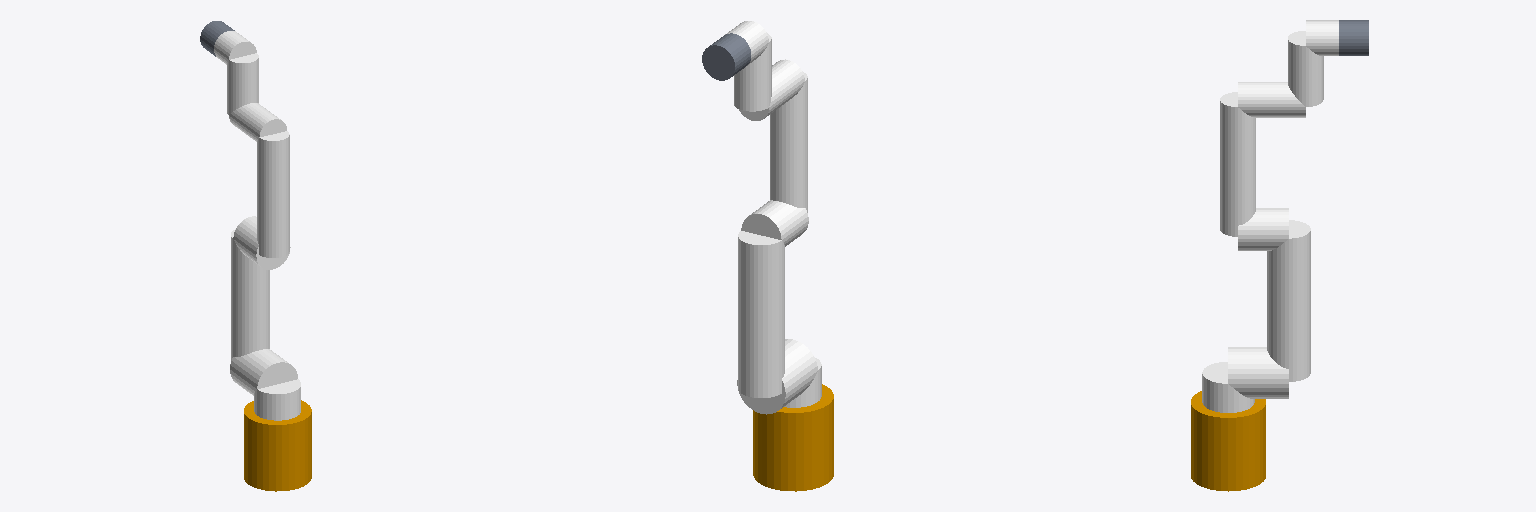
--- Render facts (derived) ---
The picture shows the robot from 3 angles, left to right: view 1: azimuth 30°, elevation 25°; view 2: azimuth 150°, elevation 25°; view 3: azimuth 270°, elevation 25°; orthographic projection.
Robot: chin_arm — 29 links, 28 joints (6 revolute, 22 fixed); root link chin_link0; default pose: every joint at zero.
Links seen in each view (by area): view 1: chin_link0, chin_link7, chin_link4, chin_link1, chin_link2, chin_link11, chin_link8, chin_link12, chin_link6, chin_link13, chin_link10; view 2: chin_link4, chin_link0, chin_link7, chin_link13, chin_link5, chin_link10, chin_link3, chin_link2, chin_link12, chin_link8, chin_link9, chin_link11 (+2 smaller); view 3: chin_link0, chin_link4, chin_link7, chin_link1, chin_link2, chin_link11, chin_link12, chin_link8, chin_link3, chin_link13, chin_link5, chin_link9 (+2 smaller).
Boxes of the visible links, x1,y1,x2,y2 form: chin_link0: (244, 400, 311, 491); chin_link7: (257, 131, 289, 257); chin_link4: (231, 229, 269, 360); chin_link1: (254, 379, 300, 420); chin_link2: (243, 351, 297, 395); chin_link11: (227, 53, 258, 91); chin_link8: (245, 108, 286, 141); chin_link12: (214, 31, 256, 64); chin_link6: (245, 228, 290, 269); chin_link13: (200, 21, 234, 56); chin_link10: (227, 87, 258, 114); chin_link4: (738, 231, 784, 397); chin_link0: (753, 384, 833, 491); chin_link7: (770, 72, 807, 212); chin_link13: (702, 33, 750, 80); chin_link5: (741, 204, 794, 246); chin_link10: (734, 72, 771, 111); chin_link3: (737, 356, 800, 414); chin_link2: (785, 339, 817, 397); chin_link12: (725, 21, 768, 65); chin_link8: (772, 59, 804, 104); chin_link9: (739, 73, 787, 120); chin_link11: (735, 33, 771, 79); chin_link0: (1191, 391, 1265, 491); chin_link4: (1267, 220, 1310, 381); chin_link7: (1220, 92, 1255, 236); chin_link1: (1202, 362, 1254, 412); chin_link2: (1228, 347, 1260, 398); chin_link11: (1288, 31, 1323, 76); chin_link12: (1306, 20, 1338, 55); chin_link8: (1238, 82, 1270, 117); chin_link3: (1261, 347, 1288, 398); chin_link13: (1339, 20, 1368, 55); chin_link5: (1263, 208, 1288, 250); chin_link9: (1271, 82, 1305, 117).
Bounding box of the posed robot: 0.19 × 0.449 × 1.26 m (x, y, z).
Geometry: primitives only (box / cylinder / sphere), no mesh files.

robot.urdf — chin_arm:
<?xml version="1.0" encoding="utf-8" ?>
<!-- =================================================================================== -->
<!-- |    This document was autogenerated by xacro from [local-path]/catkin_workspace/src/chin_arm/chin_description/urdf/chin_arm.urdf.xacro | -->
<!-- |    EDITING THIS FILE BY HAND IS NOT RECOMMENDED                                 | -->
<!-- =================================================================================== -->
<robot name="chin_arm">
    <material name="white">
        <color rgba="1 1 1 1" />
    </material>
    <material name="blue">
        <color rgba="0 0 0.8 1" />
    </material>
    <material name="silver">
        <color rgba="0.51 0.54 0.59 1" />
    </material>
    <!--sub-link defining detailed meshes for collision with environment-->
    <link name="chin_link0">
        <visual>
            <origin rpy="0 0 0" xyz="0 0 0.102" />
            <geometry>
                <cylinder length="0.204" radius="0.095" />
            </geometry>
            <material name="black" />
        </visual>
        <collision>
            <origin rpy="0 0 0" xyz="0 0 0.102" />
            <geometry>
                <cylinder length="0.204" radius="0.095" />
            </geometry>
        </collision>
        <inertial>
            <mass value="0.1" />
            <origin xyz="0 0 0" rpy="0 0 0" />
            <inertia ixx="0.03" iyy="0.03" izz="0.03" ixy="0.0" ixz="0.0" iyz="0.0" />
        </inertial>
    </link>
    <!--sub-link defining coarse geometries of real robot's internal self-collision-->
    <link name="chin_link0_sc" />
    <!--fixed joint between both sub-links-->
    <joint name="chin_link0_sc_joint" type="fixed">
        <origin rpy="0 0 0" />
        <parent link="chin_link0" />
        <child link="chin_link0_sc" />
    </joint>
    <!--sub-link defining detailed meshes for collision with environment-->
    <link name="chin_link1">
        <visual>
            <origin rpy="0 0 0" xyz="0 0 0.0405" />
            <geometry>
                <cylinder length="0.081" radius="0.066" />
            </geometry>
            <material name="white" />
        </visual>
        <collision>
            <origin rpy="0 0 0" xyz="0 0 0.0405" />
            <geometry>
                <cylinder length="0.081" radius="0.066" />
            </geometry>
        </collision>
        <inertial>
            <mass value="0.1" />
            <origin xyz="0 0 0" rpy="0 0 0" />
            <inertia ixx="0.03" iyy="0.03" izz="0.03" ixy="0.0" ixz="0.0" iyz="0.0" />
        </inertial>
    </link>
    <!--sub-link defining coarse geometries of real robot's internal self-collision-->
    <link name="chin_link1_sc">
        <collision>
            <origin rpy="0 0 0" xyz="0 0 0.0405" />
            <geometry>
                <cylinder length="0.081" radius="0.066" />
            </geometry>
        </collision>
        <collision>
            <origin xyz="0 0 0.081" />
            <geometry>
                <sphere radius="0.066" />
            </geometry>
        </collision>
        <collision>
            <origin xyz="0 0 0.0" />
            <geometry>
                <sphere radius="0.066" />
            </geometry>
        </collision>
        <inertial>
            <mass value="0.1" />
            <origin xyz="0 0 0" rpy="0 0 0" />
            <inertia ixx="0.03" iyy="0.03" izz="0.03" ixy="0.0" ixz="0.0" iyz="0.0" />
        </inertial>
    </link>
    <!--fixed joint between both sub-links-->
    <joint name="chin_link1_sc_joint" type="fixed">
        <origin rpy="0 0 0" />
        <parent link="chin_link1" />
        <child link="chin_link1_sc" />
    </joint>
    <joint name="chin_joint1" type="revolute">
        <safety_controller k_position="100.0" k_velocity="40.0" soft_lower_limit="-3.14159265359" soft_upper_limit="3.14159265359" />
        <origin rpy="0 0 0" xyz="0 0 0.204" />
        <parent link="chin_link0" />
        <child link="chin_link1" />
        <axis xyz="0 0 1" />
        <limit effort="0" lower="-3.14159265359" upper="3.14159265359" velocity="0" />
        <dynamics D="1" K="7000" damping="0.003" friction="0.0" mu_coulomb="0" mu_viscous="16" />
    </joint>
    <!--sub-link defining detailed meshes for collision with environment-->
    <link name="chin_link2">
        <visual>
            <origin rpy="0 0 0" xyz="0 0 0.041" />
            <geometry>
                <cylinder length="0.082" radius="0.066" />
            </geometry>
            <material name="white" />
        </visual>
        <collision>
            <origin rpy="0 0 0" xyz="0 0 0.041" />
            <geometry>
                <cylinder length="0.082" radius="0.066" />
            </geometry>
        </collision>
        <inertial>
            <mass value="0.1" />
            <origin xyz="0 0 0" rpy="0 0 0" />
            <inertia ixx="0.03" iyy="0.03" izz="0.03" ixy="0.0" ixz="0.0" iyz="0.0" />
        </inertial>
    </link>
    <!--sub-link defining coarse geometries of real robot's internal self-collision-->
    <link name="chin_link2_sc">
        <collision>
            <origin rpy="0 0 0" xyz="0 0 0.041" />
            <geometry>
                <cylinder length="0.082" radius="0.066" />
            </geometry>
        </collision>
        <collision>
            <origin xyz="0 0 0.082" />
            <geometry>
                <sphere radius="0.066" />
            </geometry>
        </collision>
        <collision>
            <origin xyz="0 0 0.0" />
            <geometry>
                <sphere radius="0.066" />
            </geometry>
        </collision>
        <inertial>
            <mass value="0.1" />
            <origin xyz="0 0 0" rpy="0 0 0" />
            <inertia ixx="0.03" iyy="0.03" izz="0.03" ixy="0.0" ixz="0.0" iyz="0.0" />
        </inertial>
    </link>
    <!--fixed joint between both sub-links-->
    <joint name="chin_link2_sc_joint" type="fixed">
        <origin rpy="0 0 0" />
        <parent link="chin_link2" />
        <child link="chin_link2_sc" />
    </joint>
    <joint name="chin_joint2" type="fixed">
        <origin rpy="-1.57079632679 0 0" xyz="0 0 0.081" />
        <parent link="chin_link1" />
        <child link="chin_link2" />
        <axis xyz="0 0 1" />
        <dynamics D="1" K="7000" damping="0.003" friction="0.0" mu_coulomb="0" mu_viscous="16" />
    </joint>
    <!--sub-link defining detailed meshes for collision with environment-->
    <link name="chin_link3">
        <visual>
            <origin rpy="0 0 0" xyz="0 0 0.035" />
            <geometry>
                <cylinder length="0.07" radius="0.066" />
            </geometry>
            <material name="white" />
        </visual>
        <collision>
            <origin rpy="0 0 0" xyz="0 0 0.035" />
            <geometry>
                <cylinder length="0.07" radius="0.066" />
            </geometry>
        </collision>
        <inertial>
            <mass value="0.1" />
            <origin xyz="0 0 0" rpy="0 0 0" />
            <inertia ixx="0.03" iyy="0.03" izz="0.03" ixy="0.0" ixz="0.0" iyz="0.0" />
        </inertial>
    </link>
    <!--sub-link defining coarse geometries of real robot's internal self-collision-->
    <link name="chin_link3_sc">
        <collision>
            <origin rpy="0 0 0" xyz="0 0 0.035" />
            <geometry>
                <cylinder length="0.07" radius="0.066" />
            </geometry>
        </collision>
        <collision>
            <origin xyz="0 0 0.07" />
            <geometry>
                <sphere radius="0.066" />
            </geometry>
        </collision>
        <collision>
            <origin xyz="0 0 0.0" />
            <geometry>
                <sphere radius="0.066" />
            </geometry>
        </collision>
        <inertial>
            <mass value="0.1" />
            <origin xyz="0 0 0" rpy="0 0 0" />
            <inertia ixx="0.03" iyy="0.03" izz="0.03" ixy="0.0" ixz="0.0" iyz="0.0" />
        </inertial>
    </link>
    <!--fixed joint between both sub-links-->
    <joint name="chin_link3_sc_joint" type="fixed">
        <origin rpy="0 0 0" />
        <parent link="chin_link3" />
        <child link="chin_link3_sc" />
    </joint>
    <joint name="chin_joint3" type="revolute">
        <safety_controller k_position="100.0" k_velocity="40.0" soft_lower_limit="-3.14159265359" soft_upper_limit="3.14159265359" />
        <origin rpy="0 0 0" xyz="0 0 0.082" />
        <parent link="chin_link2" />
        <child link="chin_link3" />
        <axis xyz="0 0 1" />
        <limit effort="0" lower="-3.14159265359" upper="3.14159265359" velocity="0" />
        <dynamics D="1" K="7000" damping="0.003" friction="0.0" mu_coulomb="0" mu_viscous="16" />
    </joint>
    <!--sub-link defining detailed meshes for collision with environment-->
    <link name="chin_link4">
        <visual>
            <origin rpy="0 0 0" xyz="0 0 0.199" />
            <geometry>
                <cylinder length="0.398" radius="0.055" />
            </geometry>
            <material name="white" />
        </visual>
        <collision>
            <origin rpy="0 0 0" xyz="0 0 0.199" />
            <geometry>
                <cylinder length="0.398" radius="0.055" />
            </geometry>
        </collision>
        <inertial>
            <mass value="0.1" />
            <origin xyz="0 0 0" rpy="0 0 0" />
            <inertia ixx="0.03" iyy="0.03" izz="0.03" ixy="0.0" ixz="0.0" iyz="0.0" />
        </inertial>
    </link>
    <!--sub-link defining coarse geometries of real robot's internal self-collision-->
    <link name="chin_link4_sc">
        <collision>
            <origin rpy="0 0 0" xyz="0 0 0.199" />
            <geometry>
                <cylinder length="0.398" radius="0.055" />
            </geometry>
        </collision>
        <collision>
            <origin xyz="0 0 0.398" />
            <geometry>
                <sphere radius="0.055" />
            </geometry>
        </collision>
        <collision>
            <origin xyz="0 0 0.0" />
            <geometry>
                <sphere radius="0.055" />
            </geometry>
        </collision>
        <inertial>
            <mass value="0.1" />
            <origin xyz="0 0 0" rpy="0 0 0" />
            <inertia ixx="0.03" iyy="0.03" izz="0.03" ixy="0.0" ixz="0.0" iyz="0.0" />
        </inertial>
    </link>
    <!--fixed joint between both sub-links-->
    <joint name="chin_link4_sc_joint" type="fixed">
        <origin rpy="0 0 0" />
        <parent link="chin_link4" />
        <child link="chin_link4_sc" />
    </joint>
    <joint name="chin_joint4" type="fixed">
        <origin rpy="1.57079632679 0 0" xyz="0 0 0.07" />
        <parent link="chin_link3" />
        <child link="chin_link4" />
        <axis xyz="0 0 1" />
        <dynamics D="1" K="7000" damping="0.003" friction="0.0" mu_coulomb="0" mu_viscous="16" />
    </joint>
    <!--sub-link defining detailed meshes for collision with environment-->
    <link name="chin_link5">
        <visual>
            <origin rpy="0 0 0" xyz="0 0 0.0325" />
            <geometry>
                <cylinder length="0.065" radius="0.055" />
            </geometry>
            <material name="white" />
        </visual>
        <collision>
            <origin rpy="0 0 0" xyz="0 0 0.0325" />
            <geometry>
                <cylinder length="0.065" radius="0.055" />
            </geometry>
        </collision>
        <inertial>
            <mass value="0.1" />
            <origin xyz="0 0 0" rpy="0 0 0" />
            <inertia ixx="0.03" iyy="0.03" izz="0.03" ixy="0.0" ixz="0.0" iyz="0.0" />
        </inertial>
    </link>
    <!--sub-link defining coarse geometries of real robot's internal self-collision-->
    <link name="chin_link5_sc">
        <collision>
            <origin rpy="0 0 0" xyz="0 0 0.0325" />
            <geometry>
                <cylinder length="0.065" radius="0.055" />
            </geometry>
        </collision>
        <collision>
            <origin xyz="0 0 0.065" />
            <geometry>
                <sphere radius="0.055" />
            </geometry>
        </collision>
        <collision>
            <origin xyz="0 0 0.0" />
            <geometry>
                <sphere radius="0.055" />
            </geometry>
        </collision>
        <inertial>
            <mass value="0.1" />
            <origin xyz="0 0 0" rpy="0 0 0" />
            <inertia ixx="0.03" iyy="0.03" izz="0.03" ixy="0.0" ixz="0.0" iyz="0.0" />
        </inertial>
    </link>
    <!--fixed joint between both sub-links-->
    <joint name="chin_link5_sc_joint" type="fixed">
        <origin rpy="0 0 0" />
        <parent link="chin_link5" />
        <child link="chin_link5_sc" />
    </joint>
    <joint name="chin_joint5" type="fixed">
        <origin rpy="1.57079632679 0 0" xyz="0 0 0.398" />
        <parent link="chin_link4" />
        <child link="chin_link5" />
        <axis xyz="0 0 1" />
        <dynamics D="1" K="7000" damping="0.003" friction="0.0" mu_coulomb="0" mu_viscous="16" />
    </joint>
    <!--sub-link defining detailed meshes for collision with environment-->
    <link name="chin_link6">
        <visual>
            <origin rpy="0 0 0" xyz="0 0 0.0315" />
            <geometry>
                <cylinder length="0.063" radius="0.055" />
            </geometry>
            <material name="white" />
        </visual>
        <collision>
            <origin rpy="0 0 0" xyz="0 0 0.0315" />
            <geometry>
                <cylinder length="0.063" radius="0.055" />
            </geometry>
        </collision>
        <inertial>
            <mass value="0.1" />
            <origin xyz="0 0 0" rpy="0 0 0" />
            <inertia ixx="0.03" iyy="0.03" izz="0.03" ixy="0.0" ixz="0.0" iyz="0.0" />
        </inertial>
    </link>
    <!--sub-link defining coarse geometries of real robot's internal self-collision-->
    <link name="chin_link6_sc">
        <collision>
            <origin rpy="0 0 0" xyz="0 0 0.0315" />
            <geometry>
                <cylinder length="0.063" radius="0.055" />
            </geometry>
        </collision>
        <collision>
            <origin xyz="0 0 0.063" />
            <geometry>
                <sphere radius="0.055" />
            </geometry>
        </collision>
        <collision>
            <origin xyz="0 0 0.0" />
            <geometry>
                <sphere radius="0.055" />
            </geometry>
        </collision>
        <inertial>
            <mass value="0.1" />
            <origin xyz="0 0 0" rpy="0 0 0" />
            <inertia ixx="0.03" iyy="0.03" izz="0.03" ixy="0.0" ixz="0.0" iyz="0.0" />
        </inertial>
    </link>
    <!--fixed joint between both sub-links-->
    <joint name="chin_link6_sc_joint" type="fixed">
        <origin rpy="0 0 0" />
        <parent link="chin_link6" />
        <child link="chin_link6_sc" />
    </joint>
    <joint name="chin_joint6" type="revolute">
        <safety_controller k_position="100.0" k_velocity="40.0" soft_lower_limit="-2.7925" soft_upper_limit="2.7925" />
        <origin rpy="0 0 0" xyz="0 0 0.065" />
        <parent link="chin_link5" />
        <child link="chin_link6" />
        <axis xyz="0 0 1" />
        <limit effort="0" lower="-2.7925" upper="2.7925" velocity="0" />
        <dynamics D="1" K="7000" damping="0.003" friction="0.0" mu_coulomb="0" mu_viscous="16" />
    </joint>
    <!--sub-link defining detailed meshes for collision with environment-->
    <link name="chin_link7">
        <visual>
            <origin rpy="0 0 0" xyz="0 0 0.18" />
            <geometry>
                <cylinder length="0.36" radius="0.045" />
            </geometry>
            <material name="white" />
        </visual>
        <collision>
            <origin rpy="0 0 0" xyz="0 0 0.18" />
            <geometry>
                <cylinder length="0.36" radius="0.045" />
            </geometry>
        </collision>
        <inertial>
            <mass value="0.1" />
            <origin xyz="0 0 0" rpy="0 0 0" />
            <inertia ixx="0.03" iyy="0.03" izz="0.03" ixy="0.0" ixz="0.0" iyz="0.0" />
        </inertial>
    </link>
    <!--sub-link defining coarse geometries of real robot's internal self-collision-->
    <link name="chin_link7_sc">
        <collision>
            <origin rpy="0 0 0" xyz="0 0 0.18" />
            <geometry>
                <cylinder length="0.36" radius="0.045" />
            </geometry>
        </collision>
        <collision>
            <origin xyz="0 0 0.36" />
            <geometry>
                <sphere radius="0.045" />
            </geometry>
        </collision>
        <collision>
            <origin xyz="0 0 0.0" />
            <geometry>
                <sphere radius="0.045" />
            </geometry>
        </collision>
        <inertial>
            <mass value="0.1" />
            <origin xyz="0 0 0" rpy="0 0 0" />
            <inertia ixx="0.03" iyy="0.03" izz="0.03" ixy="0.0" ixz="0.0" iyz="0.0" />
        </inertial>
    </link>
    <!--fixed joint between both sub-links-->
    <joint name="chin_link7_sc_joint" type="fixed">
        <origin rpy="0 0 0" />
        <parent link="chin_link7" />
        <child link="chin_link7_sc" />
    </joint>
    <joint name="chin_joint7" type="fixed">
        <origin rpy="-1.57079632679 0 0" xyz="0 0 0.063" />
        <parent link="chin_link6" />
        <child link="chin_link7" />
        <axis xyz="0 0 1" />
        <dynamics D="1" K="7000" damping="0.003" friction="0.0" mu_coulomb="0" mu_viscous="16" />
    </joint>
    <!--sub-link defining detailed meshes for collision with environment-->
    <link name="chin_link8">
        <visual>
            <origin rpy="0 0 0" xyz="0 0 0.0415" />
            <geometry>
                <cylinder length="0.083" radius="0.045" />
            </geometry>
            <material name="white" />
        </visual>
        <collision>
            <origin rpy="0 0 0" xyz="0 0 0.0415" />
            <geometry>
                <cylinder length="0.083" radius="0.045" />
            </geometry>
        </collision>
        <inertial>
            <mass value="0.1" />
            <origin xyz="0 0 0" rpy="0 0 0" />
            <inertia ixx="0.03" iyy="0.03" izz="0.03" ixy="0.0" ixz="0.0" iyz="0.0" />
        </inertial>
    </link>
    <!--sub-link defining coarse geometries of real robot's internal self-collision-->
    <link name="chin_link8_sc">
        <collision>
            <origin rpy="0 0 0" xyz="0 0 0.0415" />
            <geometry>
                <cylinder length="0.083" radius="0.045" />
            </geometry>
        </collision>
        <collision>
            <origin xyz="0 0 0.083" />
            <geometry>
                <sphere radius="0.045" />
            </geometry>
        </collision>
        <collision>
            <origin xyz="0 0 0.0" />
            <geometry>
                <sphere radius="0.045" />
            </geometry>
        </collision>
        <inertial>
            <mass value="0.1" />
            <origin xyz="0 0 0" rpy="0 0 0" />
            <inertia ixx="0.03" iyy="0.03" izz="0.03" ixy="0.0" ixz="0.0" iyz="0.0" />
        </inertial>
    </link>
    <!--fixed joint between both sub-links-->
    <joint name="chin_link8_sc_joint" type="fixed">
        <origin rpy="0 0 0" />
        <parent link="chin_link8" />
        <child link="chin_link8_sc" />
    </joint>
    <joint name="chin_joint8" type="fixed">
        <origin rpy="-1.57079632679 0 0" xyz="0 0 0.36" />
        <parent link="chin_link7" />
        <child link="chin_link8" />
        <axis xyz="0 0 1" />
        <dynamics D="1" K="7000" damping="0.003" friction="0.0" mu_coulomb="0" mu_viscous="16" />
    </joint>
    <!--sub-link defining detailed meshes for collision with environment-->
    <link name="chin_link9">
        <visual>
            <origin rpy="0 0 0" xyz="0 0 0.0435" />
            <geometry>
                <cylinder length="0.087" radius="0.045" />
            </geometry>
            <material name="white" />
        </visual>
        <collision>
            <origin rpy="0 0 0" xyz="0 0 0.0435" />
            <geometry>
                <cylinder length="0.087" radius="0.045" />
            </geometry>
        </collision>
        <inertial>
            <mass value="0.1" />
            <origin xyz="0 0 0" rpy="0 0 0" />
            <inertia ixx="0.03" iyy="0.03" izz="0.03" ixy="0.0" ixz="0.0" iyz="0.0" />
        </inertial>
    </link>
    <!--sub-link defining coarse geometries of real robot's internal self-collision-->
    <link name="chin_link9_sc">
        <collision>
            <origin rpy="0 0 0" xyz="0 0 0.0435" />
            <geometry>
                <cylinder length="0.087" radius="0.045" />
            </geometry>
        </collision>
        <collision>
            <origin xyz="0 0 0.087" />
            <geometry>
                <sphere radius="0.045" />
            </geometry>
        </collision>
        <collision>
            <origin xyz="0 0 0.0" />
            <geometry>
                <sphere radius="0.045" />
            </geometry>
        </collision>
        <inertial>
            <mass value="0.1" />
            <origin xyz="0 0 0" rpy="0 0 0" />
            <inertia ixx="0.03" iyy="0.03" izz="0.03" ixy="0.0" ixz="0.0" iyz="0.0" />
        </inertial>
    </link>
    <!--fixed joint between both sub-links-->
    <joint name="chin_link9_sc_joint" type="fixed">
        <origin rpy="0 0 0" />
        <parent link="chin_link9" />
        <child link="chin_link9_sc" />
    </joint>
    <joint name="chin_joint9" type="revolute">
        <safety_controller k_position="100.0" k_velocity="40.0" soft_lower_limit="-3.14159265359" soft_upper_limit="3.14159265359" />
        <origin rpy="0 0 0" xyz="0 0 0.083" />
        <parent link="chin_link8" />
        <child link="chin_link9" />
        <axis xyz="0 0 1" />
        <limit effort="0" lower="-3.14159265359" upper="3.14159265359" velocity="0" />
        <dynamics D="1" K="7000" damping="0.003" friction="0.0" mu_coulomb="0" mu_viscous="16" />
    </joint>
    <!--sub-link defining detailed meshes for collision with environment-->
    <link name="chin_link10">
        <visual>
            <origin rpy="0 0 0" xyz="0 0 0.0415" />
            <geometry>
                <cylinder length="0.083" radius="0.045" />
            </geometry>
            <material name="white" />
        </visual>
        <collision>
            <origin rpy="0 0 0" xyz="0 0 0.0415" />
            <geometry>
                <cylinder length="0.083" radius="0.045" />
            </geometry>
        </collision>
        <inertial>
            <mass value="0.1" />
            <origin xyz="0 0 0" rpy="0 0 0" />
            <inertia ixx="0.03" iyy="0.03" izz="0.03" ixy="0.0" ixz="0.0" iyz="0.0" />
        </inertial>
    </link>
    <!--sub-link defining coarse geometries of real robot's internal self-collision-->
    <link name="chin_link10_sc">
        <collision>
            <origin rpy="0 0 0" xyz="0 0 0.0415" />
            <geometry>
                <cylinder length="0.083" radius="0.045" />
            </geometry>
        </collision>
        <collision>
            <origin xyz="0 0 0.083" />
            <geometry>
                <sphere radius="0.045" />
            </geometry>
        </collision>
        <collision>
            <origin xyz="0 0 0.0" />
            <geometry>
                <sphere radius="0.045" />
            </geometry>
        </collision>
        <inertial>
            <mass value="0.1" />
            <origin xyz="0 0 0" rpy="0 0 0" />
            <inertia ixx="0.03" iyy="0.03" izz="0.03" ixy="0.0" ixz="0.0" iyz="0.0" />
        </inertial>
    </link>
    <!--fixed joint between both sub-links-->
    <joint name="chin_link10_sc_joint" type="fixed">
        <origin rpy="0 0 0" />
        <parent link="chin_link10" />
        <child link="chin_link10_sc" />
    </joint>
    <joint name="chin_joint10" type="fixed">
        <origin rpy="1.57079632679 0 0" xyz="0 0 0.087" />
        <parent link="chin_link9" />
        <child link="chin_link10" />
        <axis xyz="0 0 1" />
        <dynamics D="1" K="7000" damping="0.003" friction="0.0" mu_coulomb="0" mu_viscous="16" />
    </joint>
    <!--sub-link defining detailed meshes for collision with environment-->
    <link name="chin_link11">
        <visual>
            <origin rpy="0 0 0" xyz="0 0 0.0435" />
            <geometry>
                <cylinder length="0.087" radius="0.045" />
            </geometry>
            <material name="white" />
        </visual>
        <collision>
            <origin rpy="0 0 0" xyz="0 0 0.0435" />
            <geometry>
                <cylinder length="0.087" radius="0.045" />
            </geometry>
        </collision>
        <inertial>
            <mass value="0.1" />
            <origin xyz="0 0 0" rpy="0 0 0" />
            <inertia ixx="0.03" iyy="0.03" izz="0.03" ixy="0.0" ixz="0.0" iyz="0.0" />
        </inertial>
    </link>
    <!--sub-link defining coarse geometries of real robot's internal self-collision-->
    <link name="chin_link11_sc">
        <collision>
            <origin rpy="0 0 0" xyz="0 0 0.0435" />
            <geometry>
                <cylinder length="0.087" radius="0.045" />
            </geometry>
        </collision>
        <collision>
            <origin xyz="0 0 0.087" />
            <geometry>
                <sphere radius="0.045" />
            </geometry>
        </collision>
        <collision>
            <origin xyz="0 0 0.0" />
            <geometry>
                <sphere radius="0.045" />
            </geometry>
        </collision>
        <inertial>
            <mass value="0.1" />
            <origin xyz="0 0 0" rpy="0 0 0" />
            <inertia ixx="0.03" iyy="0.03" izz="0.03" ixy="0.0" ixz="0.0" iyz="0.0" />
        </inertial>
    </link>
    <!--fixed joint between both sub-links-->
    <joint name="chin_link11_sc_joint" type="fixed">
        <origin rpy="0 0 0" />
        <parent link="chin_link11" />
        <child link="chin_link11_sc" />
    </joint>
    <joint name="chin_joint11" type="revolute">
        <safety_controller k_position="100.0" k_velocity="40.0" soft_lower_limit="-3.14159265359" soft_upper_limit="3.14159265359" />
        <origin rpy="0 0 0" xyz="0 0 0.083" />
        <parent link="chin_link10" />
        <child link="chin_link11" />
        <axis xyz="0 0 1" />
        <limit effort="0" lower="-3.14159265359" upper="3.14159265359" velocity="0" />
        <dynamics D="1" K="7000" damping="0.003" friction="0.0" mu_coulomb="0" mu_viscous="16" />
    </joint>
    <!--sub-link defining detailed meshes for collision with environment-->
    <link name="chin_link12">
        <visual>
            <origin rpy="0 0 0" xyz="0 0 0.0415" />
            <geometry>
                <cylinder length="0.083" radius="0.045" />
            </geometry>
            <material name="white" />
        </visual>
        <collision>
            <origin rpy="0 0 0" xyz="0 0 0.0415" />
            <geometry>
                <cylinder length="0.083" radius="0.045" />
            </geometry>
        </collision>
        <inertial>
            <mass value="0.1" />
            <origin xyz="0 0 0" rpy="0 0 0" />
            <inertia ixx="0.03" iyy="0.03" izz="0.03" ixy="0.0" ixz="0.0" iyz="0.0" />
        </inertial>
    </link>
    <!--sub-link defining coarse geometries of real robot's internal self-collision-->
    <link name="chin_link12_sc">
        <collision>
            <origin rpy="0 0 0" xyz="0 0 0.0415" />
            <geometry>
                <cylinder length="0.083" radius="0.045" />
            </geometry>
        </collision>
        <collision>
            <origin xyz="0 0 0.083" />
            <geometry>
                <sphere radius="0.045" />
            </geometry>
        </collision>
        <collision>
            <origin xyz="0 0 0.0" />
            <geometry>
                <sphere radius="0.045" />
            </geometry>
        </collision>
        <inertial>
            <mass value="0.1" />
            <origin xyz="0 0 0" rpy="0 0 0" />
            <inertia ixx="0.03" iyy="0.03" izz="0.03" ixy="0.0" ixz="0.0" iyz="0.0" />
        </inertial>
    </link>
    <!--fixed joint between both sub-links-->
    <joint name="chin_link12_sc_joint" type="fixed">
        <origin rpy="0 0 0" />
        <parent link="chin_link12" />
        <child link="chin_link12_sc" />
    </joint>
    <joint name="chin_joint12" type="fixed">
        <origin rpy="-1.57079632679 0 0" xyz="0 0 0.087" />
        <parent link="chin_link11" />
        <child link="chin_link12" />
        <axis xyz="0 0 1" />
        <dynamics D="1" K="7000" damping="0.003" friction="0.0" mu_coulomb="0" mu_viscous="16" />
    </joint>
    <!--sub-link defining detailed meshes for collision with environment-->
    <link name="chin_link13">
        <visual>
            <origin rpy="0 0 0" xyz="0 0 0.0385" />
            <geometry>
                <cylinder length="0.077" radius="0.045" />
            </geometry>
            <material name="silver" />
        </visual>
        <collision>
            <origin rpy="0 0 0" xyz="0 0 0.0385" />
            <geometry>
                <cylinder length="0.077" radius="0.045" />
            </geometry>
        </collision>
        <inertial>
            <mass value="0.1" />
            <origin xyz="0 0 0" rpy="0 0 0" />
            <inertia ixx="0.03" iyy="0.03" izz="0.03" ixy="0.0" ixz="0.0" iyz="0.0" />
        </inertial>
    </link>
    <!--sub-link defining coarse geometries of real robot's internal self-collision-->
    <link name="chin_link13_sc">
        <collision>
            <origin rpy="0 0 0" xyz="0 0 0.0385" />
            <geometry>
                <cylinder length="0.077" radius="0.045" />
            </geometry>
        </collision>
        <collision>
            <origin xyz="0 0 0.077" />
            <geometry>
                <sphere radius="0.045" />
            </geometry>
        </collision>
        <collision>
            <origin xyz="0 0 0.0" />
            <geometry>
                <sphere radius="0.045" />
            </geometry>
        </collision>
        <inertial>
            <mass value="0.1" />
            <origin xyz="0 0 0" rpy="0 0 0" />
            <inertia ixx="0.03" iyy="0.03" izz="0.03" ixy="0.0" ixz="0.0" iyz="0.0" />
        </inertial>
    </link>
    <!--fixed joint between both sub-links-->
    <joint name="chin_link13_sc_joint" type="fixed">
        <origin rpy="0 0 0" />
        <parent link="chin_link13" />
        <child link="chin_link13_sc" />
    </joint>
    <joint name="chin_joint13" type="revolute">
        <safety_controller k_position="100.0" k_velocity="40.0" soft_lower_limit="-3.14159265359" soft_upper_limit="3.14159265359" />
        <origin rpy="0 0 0" xyz="0 0 0.083" />
        <parent link="chin_link12" />
        <child link="chin_link13" />
        <axis xyz="0 0 1" />
        <limit effort="0" lower="-3.14159265359" upper="3.14159265359" velocity="0" />
        <dynamics D="1" K="7000" damping="0.003" friction="0.0" mu_coulomb="0" mu_viscous="16" />
    </joint>
    <!--link14 to link13-->
    <link name="chin_link14" />
    <joint name="chin_joint14" type="fixed">
        <origin rpy="0 0 -3.14159265359" xyz="0 0 0.077" />
        <parent link="chin_link13" />
        <child link="chin_link14" />
    </joint>
    <transmission name="trans_chin_joint1">
        <type>transmission_interface/SimpleTransmission</type>
        <joint name="chin_joint1">
            <hardwareInterface>hardware_interface/EffortJointInterface</hardwareInterface>
        </joint>
        <actuator name="chin_joint1_motor">
            <hardwareInterface>hardware_interface/EffortJointInterface</hardwareInterface>
            <mechanicalReduction>1</mechanicalReduction>
        </actuator>
    </transmission>
    <transmission name="trans_chin_joint3">
        <type>transmission_interface/SimpleTransmission</type>
        <joint name="chin_joint3">
            <hardwareInterface>hardware_interface/EffortJointInterface</hardwareInterface>
        </joint>
        <actuator name="chin_joint3_motor">
            <hardwareInterface>hardware_interface/EffortJointInterface</hardwareInterface>
            <mechanicalReduction>1</mechanicalReduction>
        </actuator>
    </transmission>
    <transmission name="trans_chin_joint6">
        <type>transmission_interface/SimpleTransmission</type>
        <joint name="chin_joint6">
            <hardwareInterface>hardware_interface/EffortJointInterface</hardwareInterface>
        </joint>
        <actuator name="chin_joint6_motor">
            <hardwareInterface>hardware_interface/EffortJointInterface</hardwareInterface>
            <mechanicalReduction>1</mechanicalReduction>
        </actuator>
    </transmission>
    <transmission name="trans_chin_joint9">
        <type>transmission_interface/SimpleTransmission</type>
        <joint name="chin_joint9">
            <hardwareInterface>hardware_interface/EffortJointInterface</hardwareInterface>
        </joint>
        <actuator name="chin_joint9_motor">
            <hardwareInterface>hardware_interface/EffortJointInterface</hardwareInterface>
            <mechanicalReduction>1</mechanicalReduction>
        </actuator>
    </transmission>
    <transmission name="trans_chin_joint11">
        <type>transmission_interface/SimpleTransmission</type>
        <joint name="chin_joint11">
            <hardwareInterface>hardware_interface/EffortJointInterface</hardwareInterface>
        </joint>
        <actuator name="chin_joint11_motor">
            <hardwareInterface>hardware_interface/EffortJointInterface</hardwareInterface>
            <mechanicalReduction>1</mechanicalReduction>
        </actuator>
    </transmission>
    <transmission name="trans_chin_joint13">
        <type>transmission_interface/SimpleTransmission</type>
        <joint name="chin_joint13">
            <hardwareInterface>hardware_interface/EffortJointInterface</hardwareInterface>
        </joint>
        <actuator name="chin_joint13_motor">
            <hardwareInterface>hardware_interface/EffortJointInterface</hardwareInterface>
            <mechanicalReduction>1</mechanicalReduction>
        </actuator>
    </transmission>
    <gazebo>
        <plugin name="gazebo_ros_control">
            <robotNamespace>/</robotNamespace>
        </plugin>
    </gazebo>
</robot>
